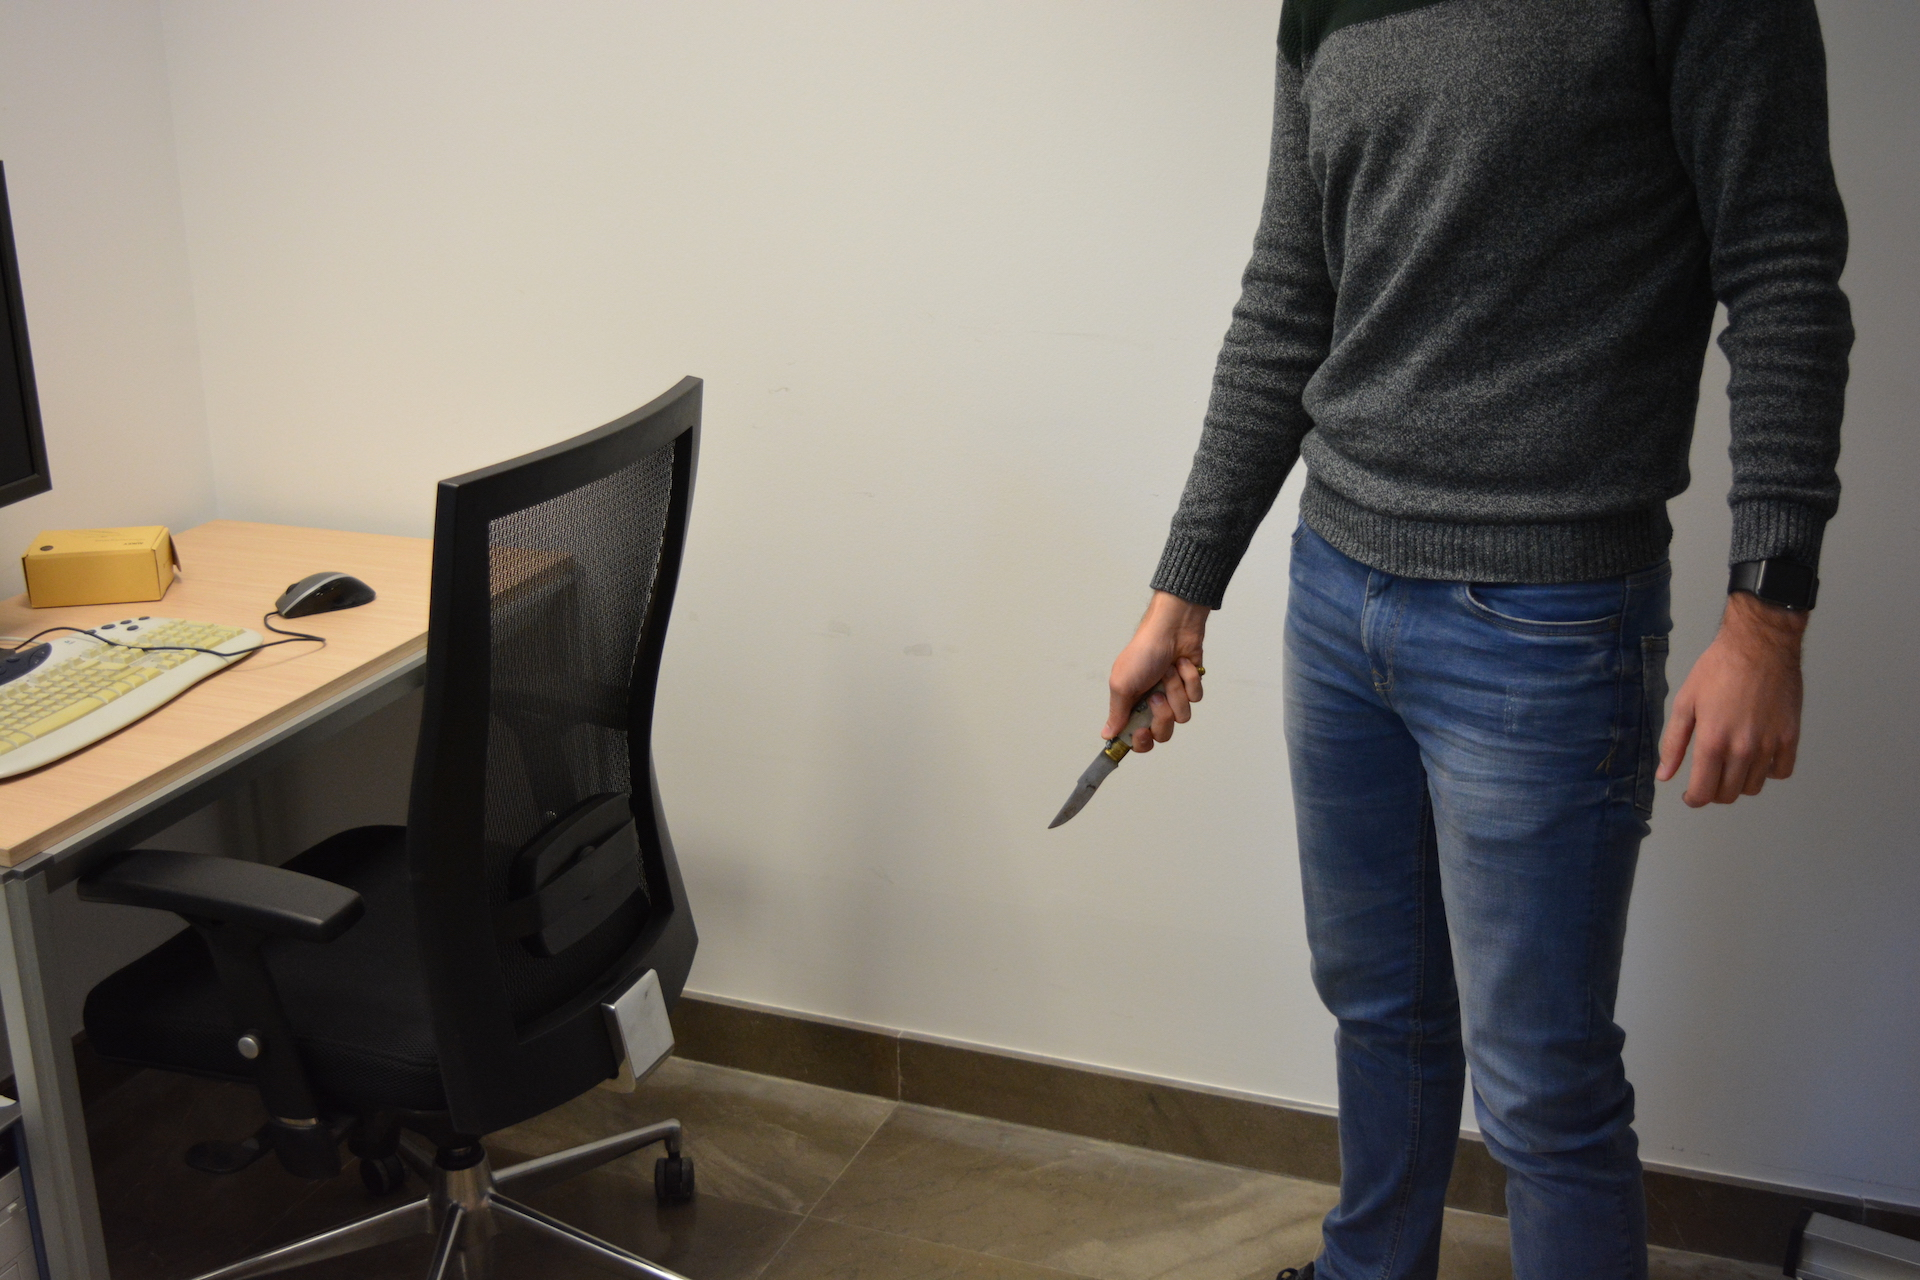knife: (1041, 659, 1211, 840)
